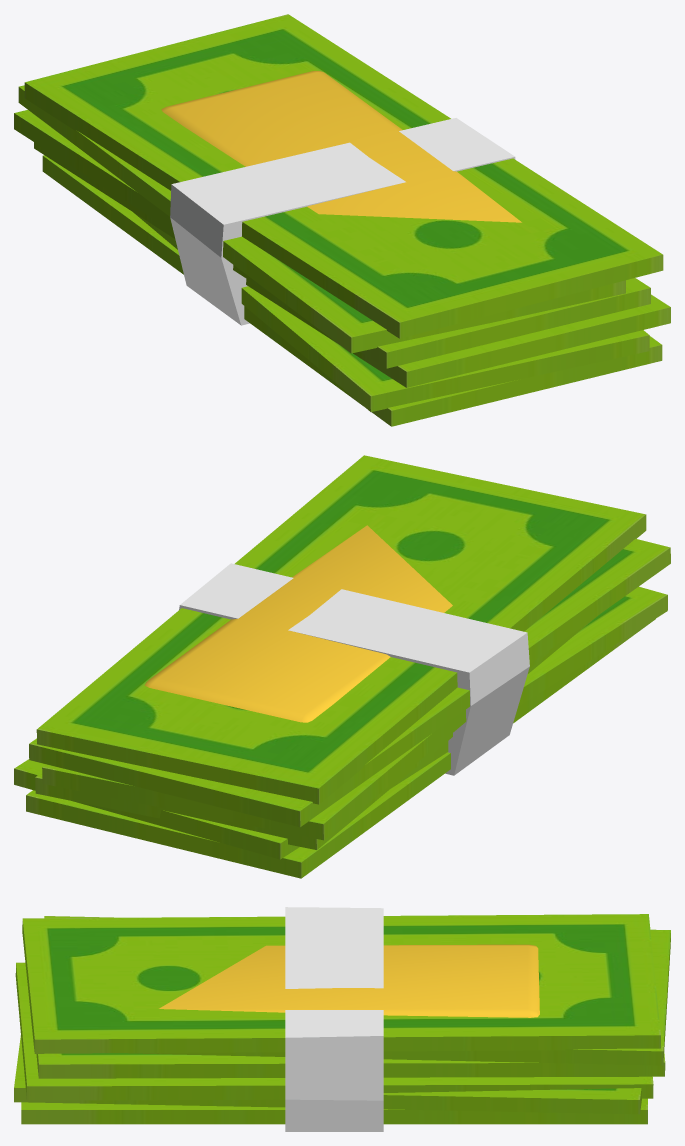
Rendered from Money.fbx.
3 views of the same model, one above another, from view 1: azimuth 30°, elevation 25°; view 2: azimuth 150°, elevation 25°; view 3: azimuth 270°, elevation 25° (orthographic). The views are drawn at different scales.
Parts seen in each view (by area): view 1: Moneylot, GoldBar, Money; view 2: Moneylot, GoldBar, Money; view 3: Moneylot, GoldBar, Money.
Boxes of the visible parts, <box> form: Moneylot: <box>14,14,670,411</box>; GoldBar: <box>161,71,521,222</box>; Money: <box>42,155,662,426</box>; Moneylot: <box>14,455,670,859</box>; GoldBar: <box>144,525,452,722</box>; Money: <box>26,619,655,878</box>; Moneylot: <box>14,907,670,1131</box>; GoldBar: <box>159,944,539,1017</box>; Money: <box>21,1098,647,1124</box>.
Size of the model in its own units: 0.5002 by 0.1673 by 1.01.
